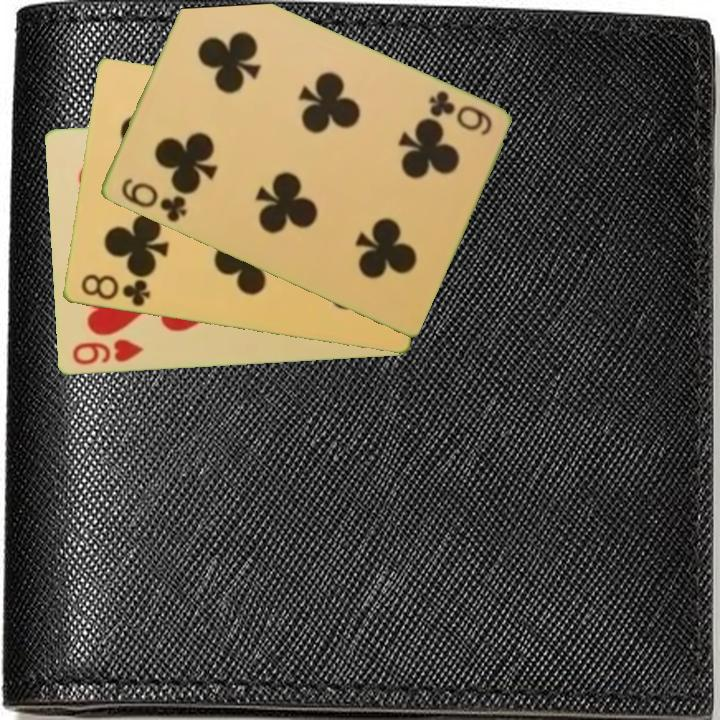6c: (117, 174, 190, 226), (424, 87, 495, 139)
8c: (77, 271, 153, 310)
9h: (69, 335, 146, 369)
